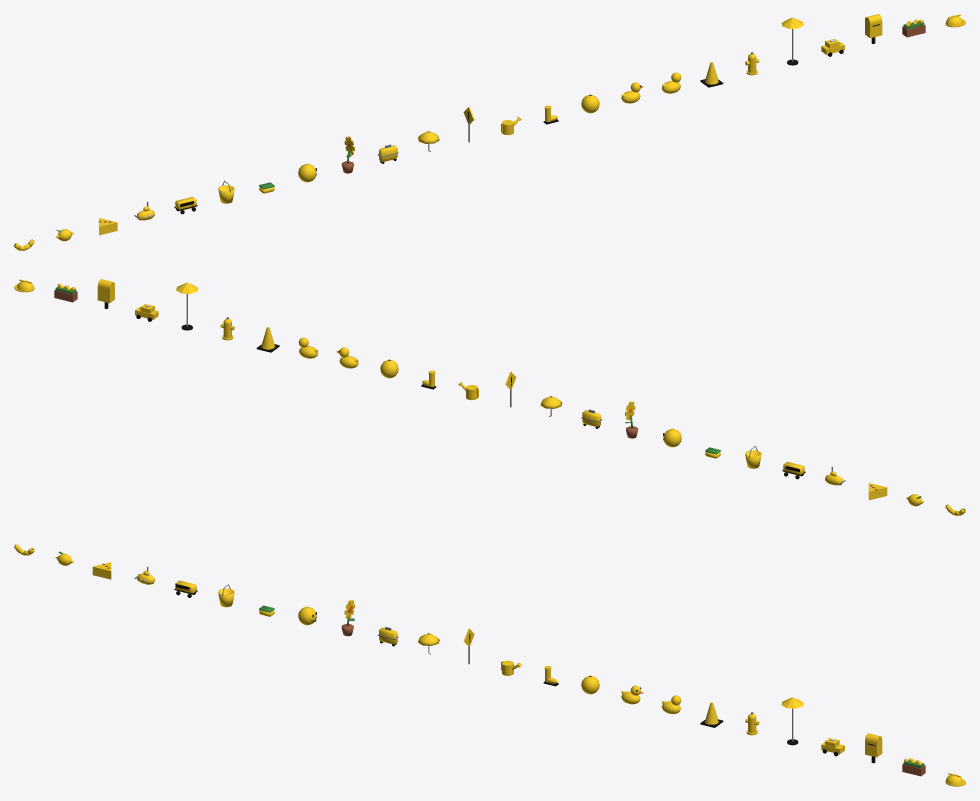
File: props.glb
The picture shows the model from 3 angles, top to bottom: view 1: azimuth 30°, elevation 25°; view 2: azimuth 150°, elevation 25°; view 3: azimuth 330°, elevation 25°; orthographic projection.
Bounding box in the file's own units: 23.51 × 1.09 × 0.52.
